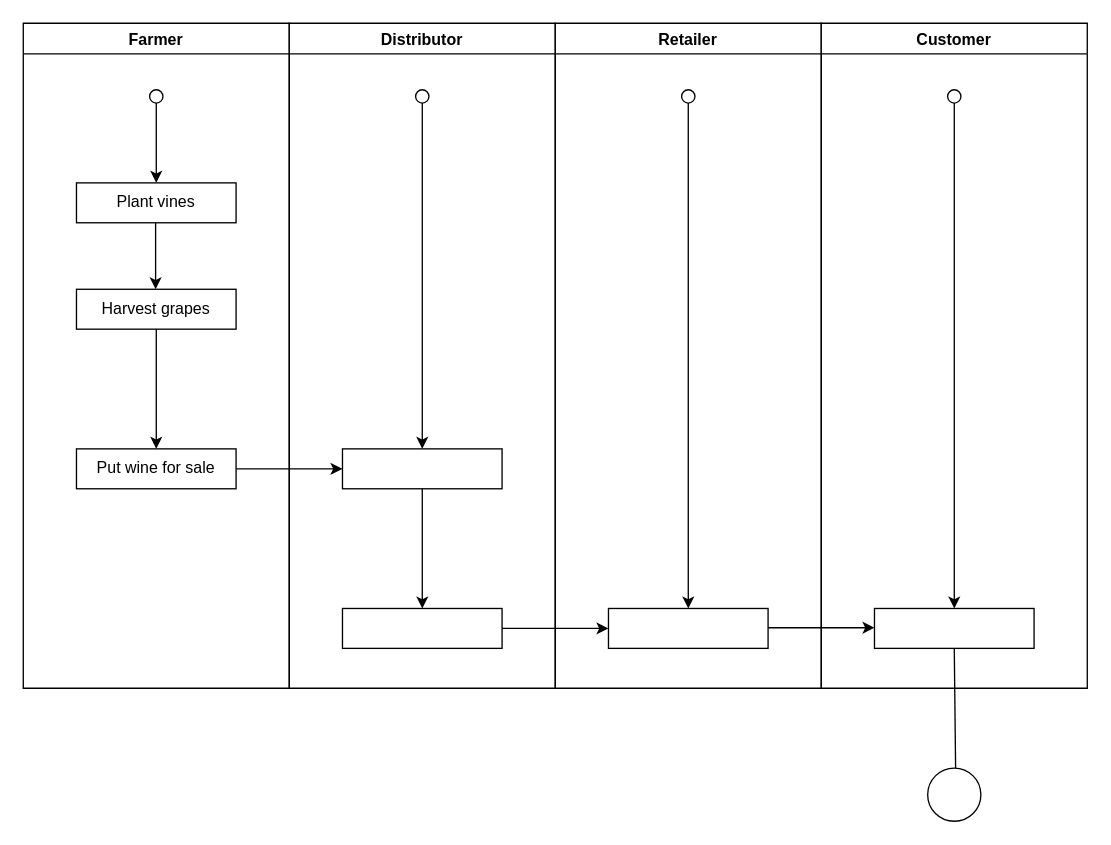
Image size: 1111x845. Some labels were removed from this diagram. Here are the shapes that lost their labels. From the top down, the centre of each, then its label:
At point (421, 468): "Buy bottles".
At point (421, 627): "Ship bottles".
At point (687, 627): "receive bottles".
At point (953, 627): "Purchase bottles".
